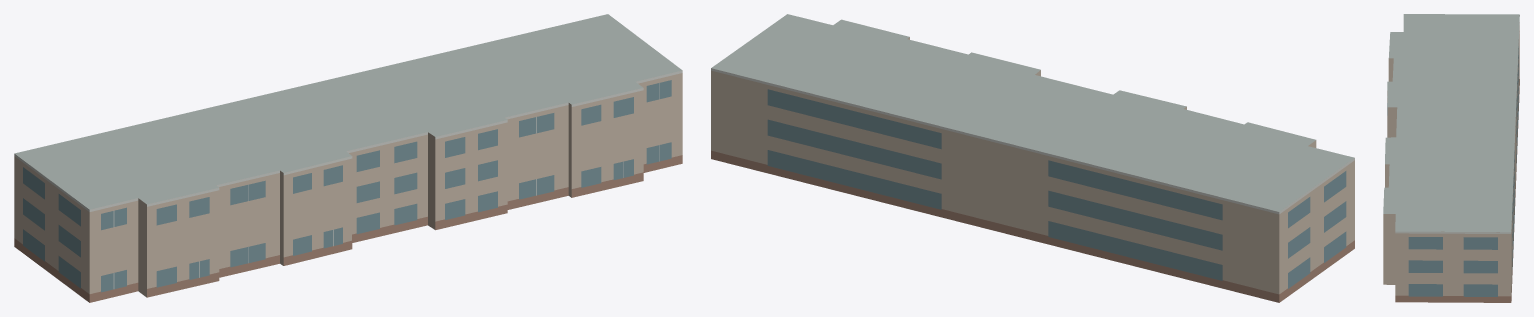
Rendered from survey-upis-32887156.glb.
The picture shows the model from 3 angles, left to right: view 1: azimuth 30°, elevation 25°; view 2: azimuth 150°, elevation 25°; view 3: azimuth 270°, elevation 25°; orthographic projection. The views are drawn at different scales.
Parts seen in each view (by area): view 1: survey-upis-32887156.tmp; view 2: survey-upis-32887156.tmp; view 3: survey-upis-32887156.tmp.
Boxes of the visible parts, bbox=[...] form: survey-upis-32887156.tmp: bbox=[14, 14, 682, 302]; survey-upis-32887156.tmp: bbox=[711, 14, 1354, 302]; survey-upis-32887156.tmp: bbox=[1383, 14, 1519, 302].
Size of the model in its own units: 60.54 by 9.15 by 16.02.
